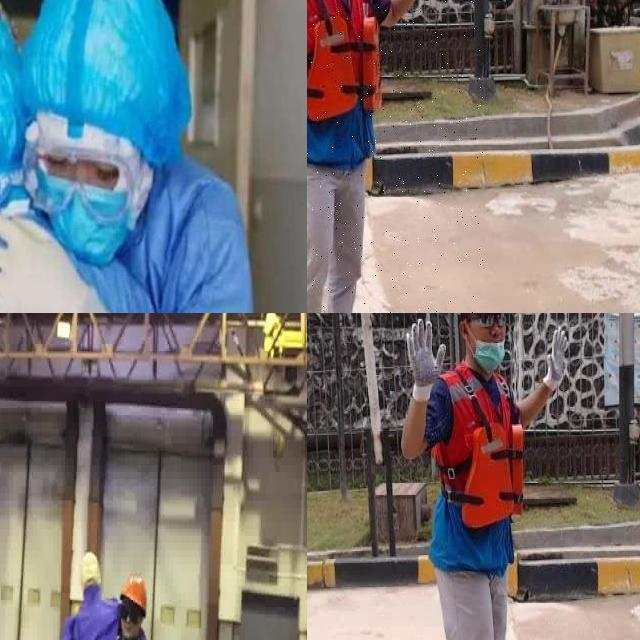GLASS: (465, 313, 509, 328), (121, 605, 141, 621)
GLOVE: (405, 319, 446, 403), (545, 329, 569, 391)
Glove: (0, 176, 91, 313)
HELMET: (122, 577, 148, 617)
MASK: (24, 170, 139, 254)
VEST: (430, 360, 527, 569), (307, 0, 384, 163)
